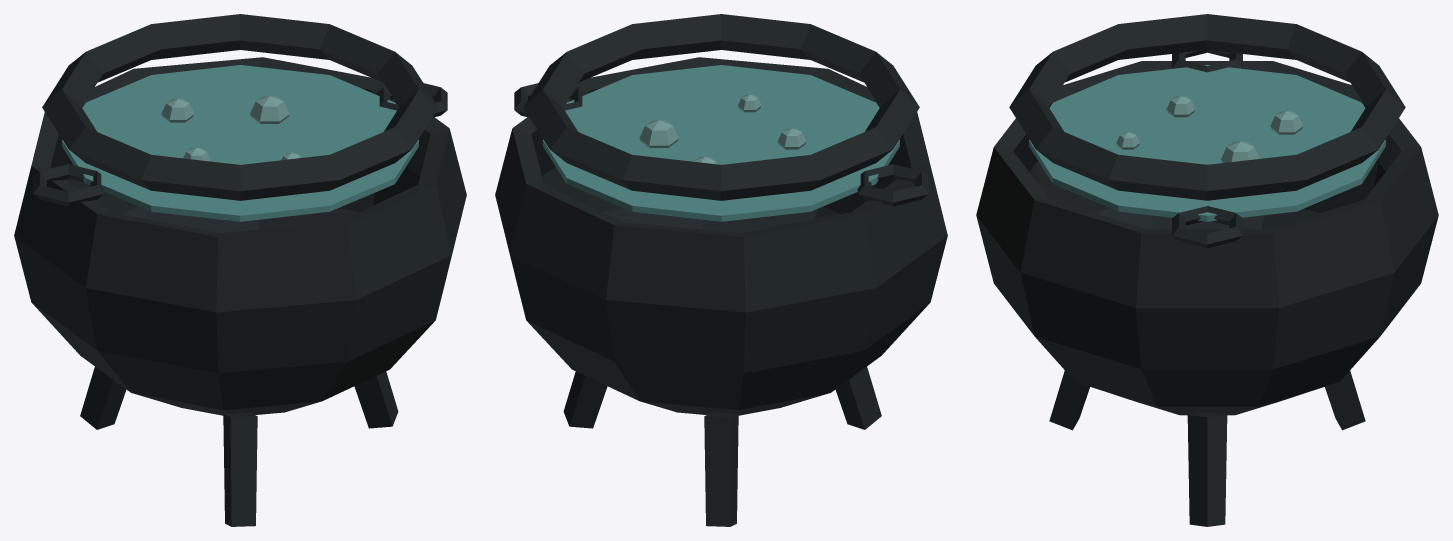
The model's file is ceaun.glb.
3 views of the same model, side by side, from view 1: azimuth 30°, elevation 25°; view 2: azimuth 150°, elevation 25°; view 3: azimuth 270°, elevation 25° (orthographic).
Visible parts, largest first — view 1: Ceaun, Lichid; view 2: Ceaun, Lichid; view 3: Ceaun, Lichid.
Boxes of the visible parts, x1,y1,x2,y2 form: Ceaun: [14, 14, 466, 526]; Lichid: [62, 65, 418, 221]; Ceaun: [495, 14, 947, 526]; Lichid: [543, 65, 899, 221]; Ceaun: [976, 14, 1438, 526]; Lichid: [1029, 65, 1385, 221].
Size of the model in its own units: 0.724 by 0.6181 by 0.7.
